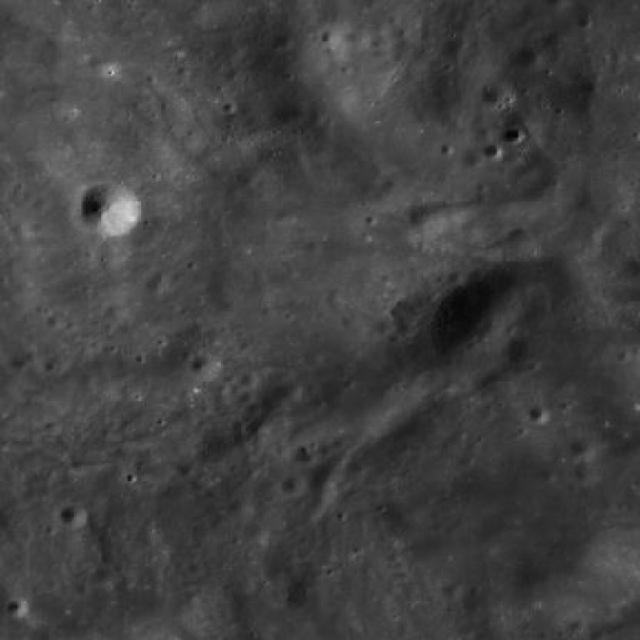crater: (508, 524, 634, 630), (312, 360, 406, 440), (426, 289, 512, 362), (166, 323, 239, 385), (76, 182, 142, 236), (578, 178, 626, 218), (472, 513, 516, 552), (288, 576, 330, 612), (409, 203, 449, 237), (96, 238, 130, 266), (502, 228, 536, 256), (481, 80, 514, 108), (189, 354, 220, 380), (516, 47, 544, 70), (60, 504, 86, 528), (90, 568, 116, 590), (568, 436, 594, 458), (573, 462, 598, 484), (283, 104, 308, 125), (280, 476, 305, 496), (144, 278, 168, 298), (278, 382, 302, 402), (244, 523, 267, 542), (5, 599, 27, 618), (296, 448, 318, 467), (440, 582, 462, 601), (345, 463, 367, 482), (374, 318, 396, 337), (44, 356, 67, 374), (528, 406, 550, 424), (274, 208, 296, 225), (446, 270, 464, 288), (503, 128, 523, 144), (483, 144, 502, 160), (465, 152, 483, 168), (240, 371, 258, 387)
